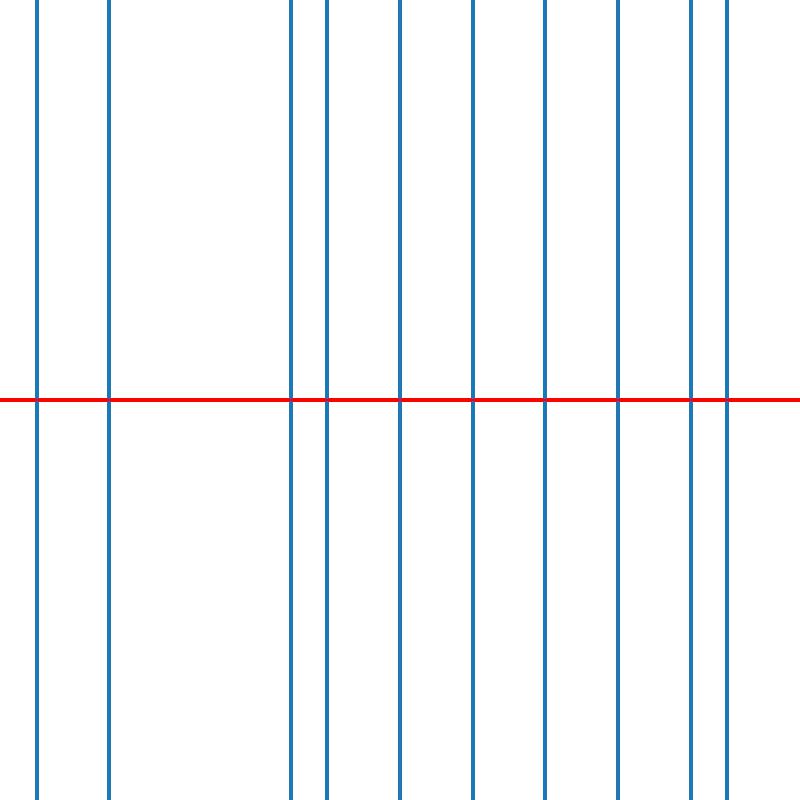root: (541, 396, 549, 404), (32, 396, 40, 404), (469, 396, 476, 404), (323, 396, 330, 404), (614, 396, 621, 404), (287, 396, 294, 404), (723, 396, 730, 404), (396, 396, 403, 404), (687, 396, 694, 404), (105, 396, 112, 404)
